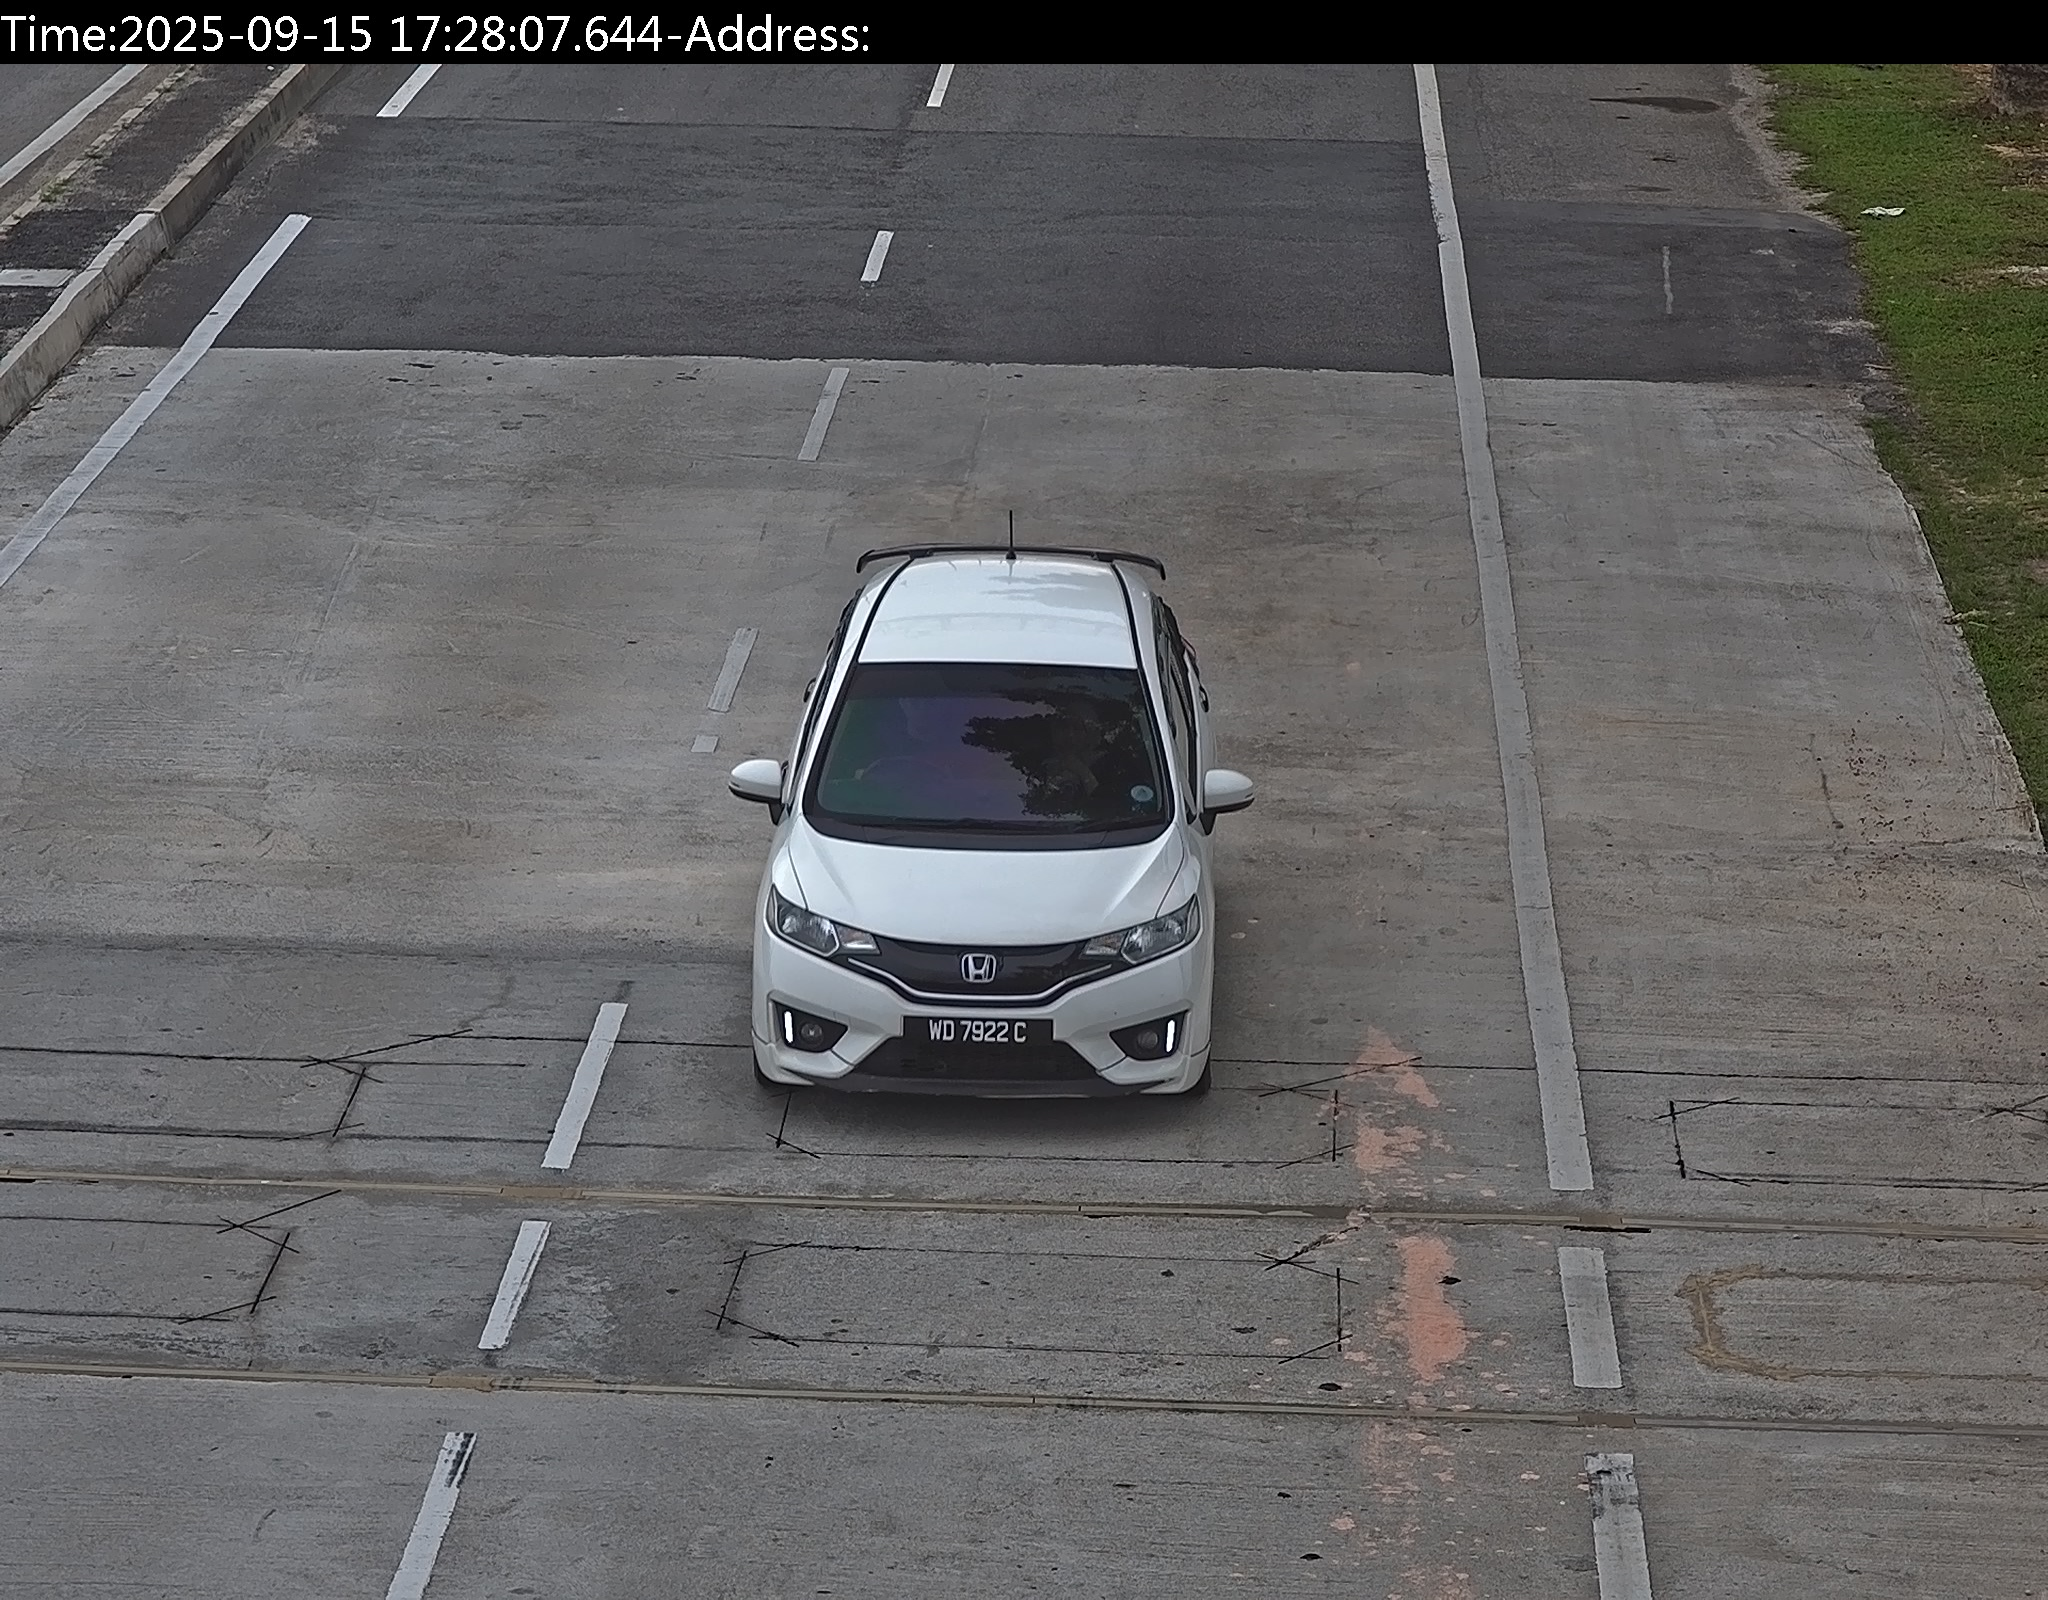class1_lightVehicle: (756, 548, 1214, 1101)
license_plate: (917, 1014, 1034, 1050)
